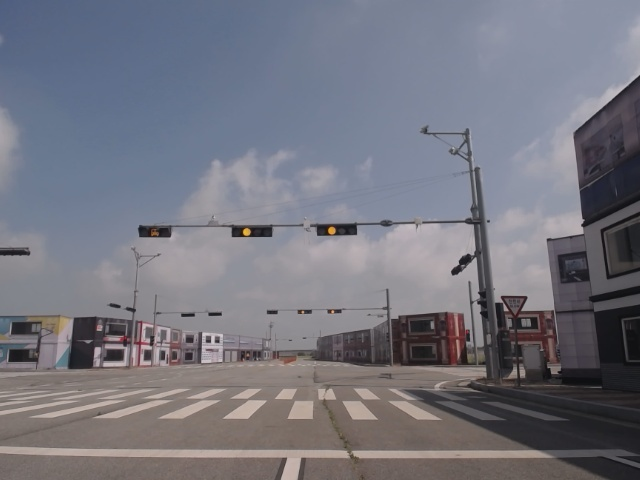orange_4: (231, 224, 272, 238), (317, 225, 359, 237)
